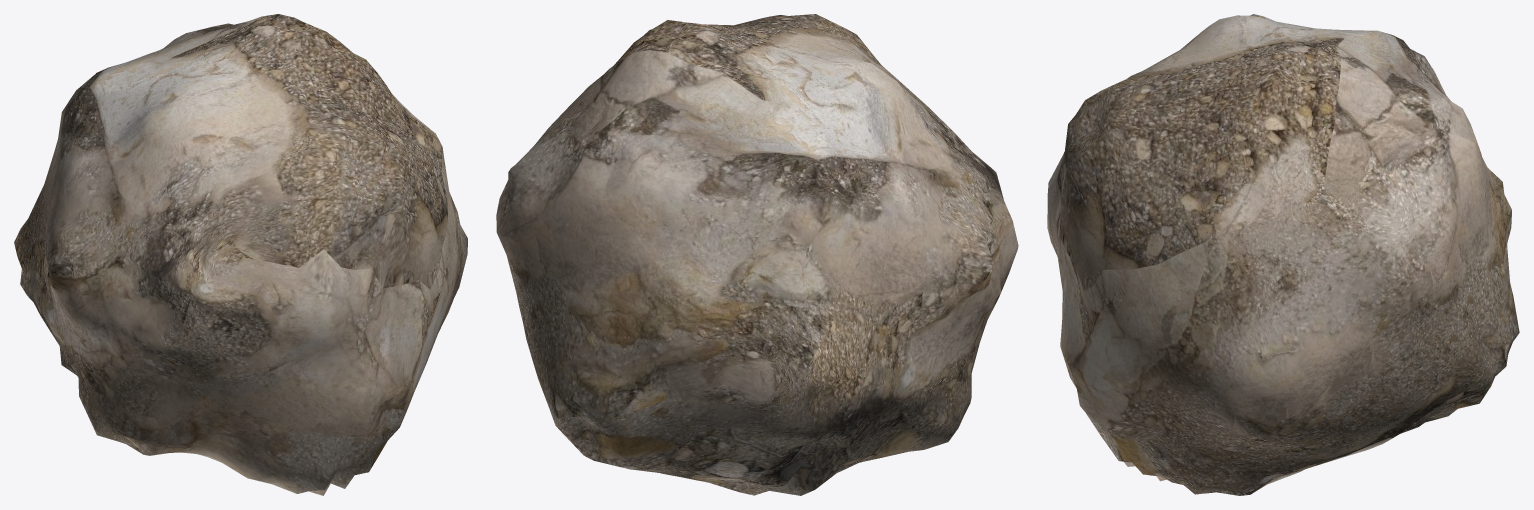
3 renders of one model, left to right at view 1: azimuth 30°, elevation 25°; view 2: azimuth 150°, elevation 25°; view 3: azimuth 270°, elevation 25°, orthographic. The views are drawn at different scales.
Parts seen in each view (by area): view 1: Cube; view 2: Cube; view 3: Cube.
Boxes of the visible parts, box(x1,y1,x2,y2) form: Cube: box(14, 14, 467, 495); Cube: box(496, 14, 1018, 495); Cube: box(1047, 14, 1519, 495).
Size of the model in its own units: 1.13 by 1.08 by 1.06.
Materials: 1 (1 with a texture image).
